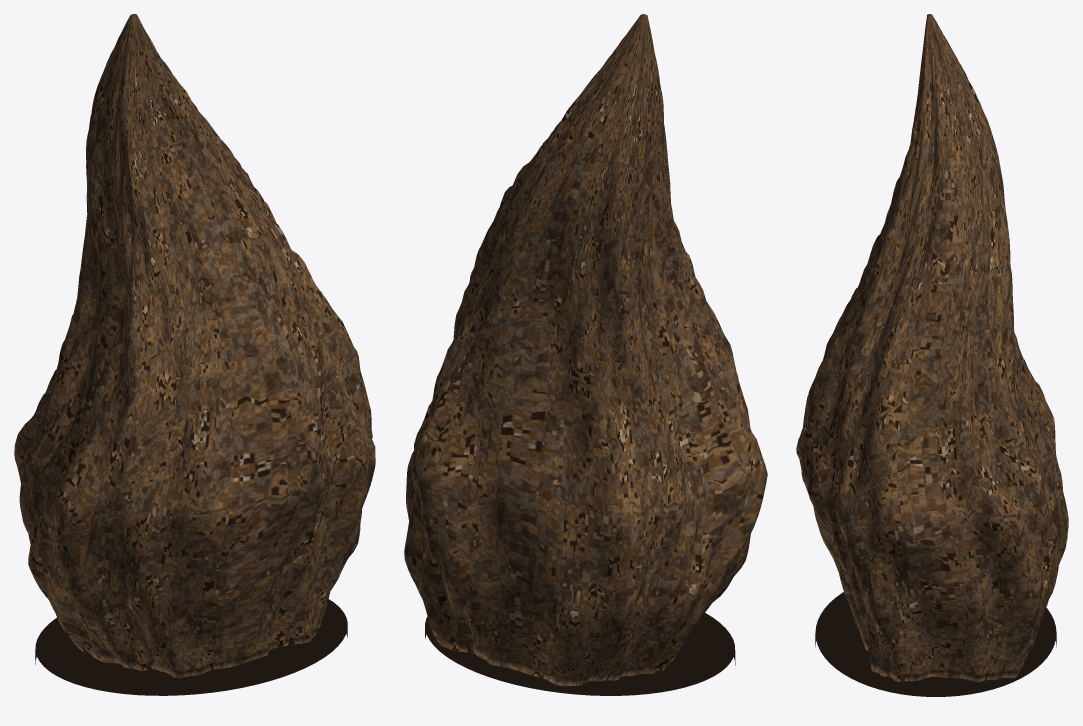
Rendered from lingstone-concept-05-v19.glb.
The picture shows the model from 3 angles, left to right: view 1: azimuth 30°, elevation 25°; view 2: azimuth 150°, elevation 25°; view 3: azimuth 270°, elevation 25°; orthographic projection. The views are drawn at different scales.
Parts seen in each view (by area): view 1: XY-CONCEPT-005 concept stone, Concept display plinth; view 2: XY-CONCEPT-005 concept stone, Concept display plinth; view 3: XY-CONCEPT-005 concept stone, Concept display plinth.
Part boxes in pixels (bbox=[...]): XY-CONCEPT-005 concept stone: bbox=[14, 14, 375, 678]; Concept display plinth: bbox=[35, 599, 347, 695]; XY-CONCEPT-005 concept stone: bbox=[404, 14, 767, 686]; Concept display plinth: bbox=[425, 613, 735, 695]; XY-CONCEPT-005 concept stone: bbox=[796, 14, 1068, 681]; Concept display plinth: bbox=[815, 592, 1056, 696].
Size of the model in its own units: 1.01 by 2.03 by 0.828.
Materials: 2 (1 with a texture image).
